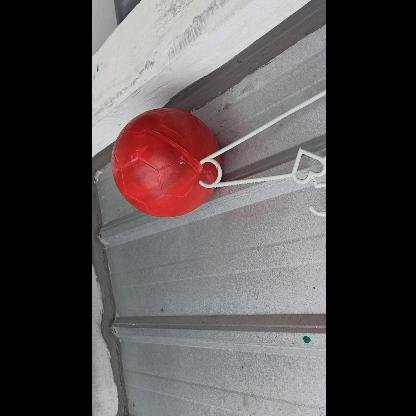red_ball: (110, 108, 220, 218)
